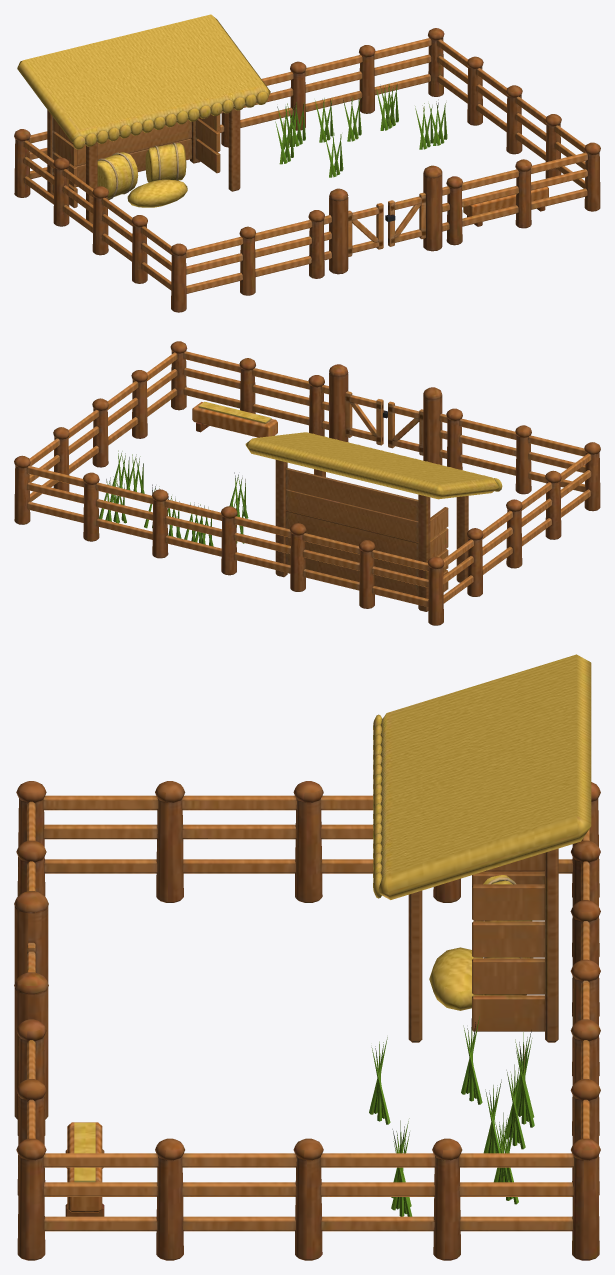
File: cassowary_ranch.glb
3 views of the same model, one above another, from view 1: azimuth 30°, elevation 25°; view 2: azimuth 150°, elevation 25°; view 3: azimuth 270°, elevation 25° (orthographic). The views are drawn at different scales.
Visible parts, largest first — view 1: cassowary_ranch, gate1, gate0; view 2: cassowary_ranch, gate1, gate0; view 3: cassowary_ranch.
Boxes of the visible parts, x1,y1,x2,y2 form: cassowary_ranch: [14, 14, 600, 312]; gate1: [385, 192, 425, 246]; gate0: [348, 203, 383, 256]; cassowary_ranch: [14, 341, 600, 625]; gate1: [345, 391, 387, 445]; gate0: [388, 401, 423, 455]; cassowary_ranch: [14, 654, 600, 1260].
Bounding box in the file's own units: 3 × 0.9714 × 2.01.
Materials: 1 (1 with a texture image).
